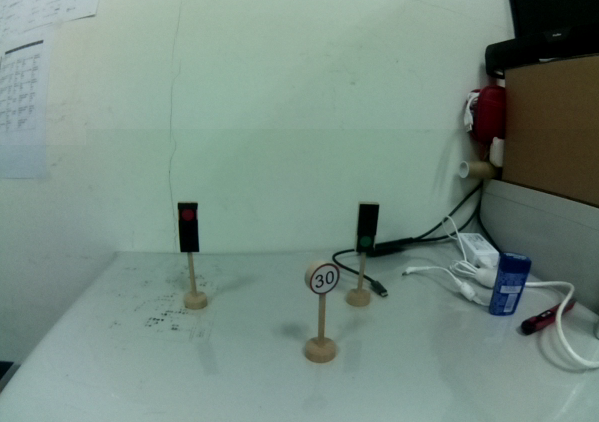Green: (355, 200, 382, 260)
Red: (174, 199, 205, 257)
Speed30: (302, 258, 341, 297)
